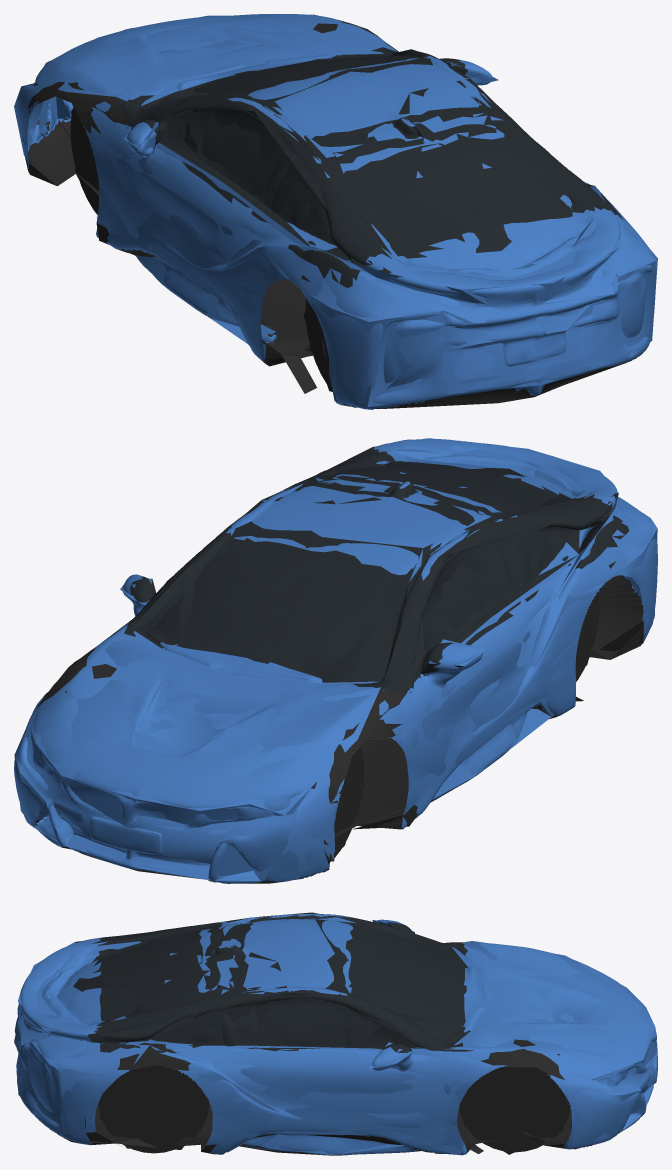
File: bmw-i8.glb
3 views of the same model, one above another, from view 1: azimuth 30°, elevation 25°; view 2: azimuth 150°, elevation 25°; view 3: azimuth 270°, elevation 25° (orthographic). The views are drawn at different scales.
Visible parts, largest first — view 1: body, far; view 2: body, far; view 3: body, far.
Boxes of the visible parts, x1,y1,x2,y2 form: body: (17, 14, 656, 409); far: (14, 14, 657, 407); body: (14, 439, 657, 883); far: (14, 438, 657, 880); body: (14, 914, 657, 1155); far: (14, 912, 657, 1155).
Size of the model in its own units: 2.37 by 1.37 by 4.75.
